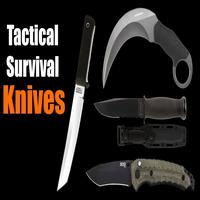knife: (100, 8, 197, 89), (55, 11, 95, 196), (81, 156, 197, 193), (90, 92, 193, 122)
